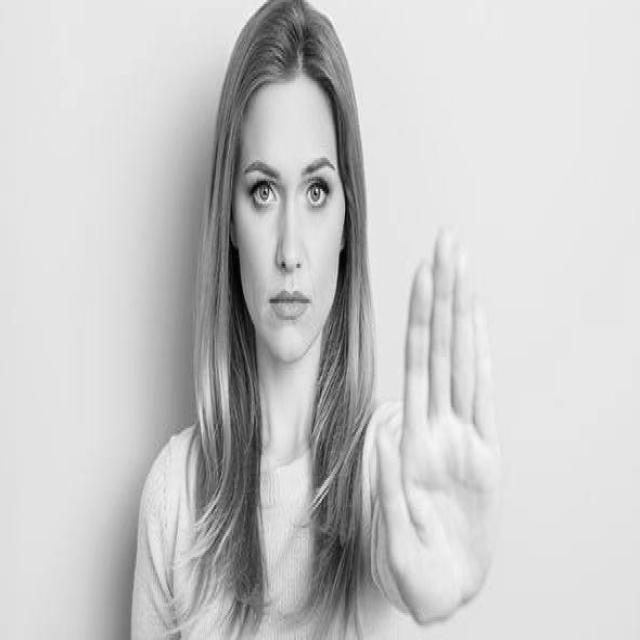stop: (372, 215, 507, 632)
